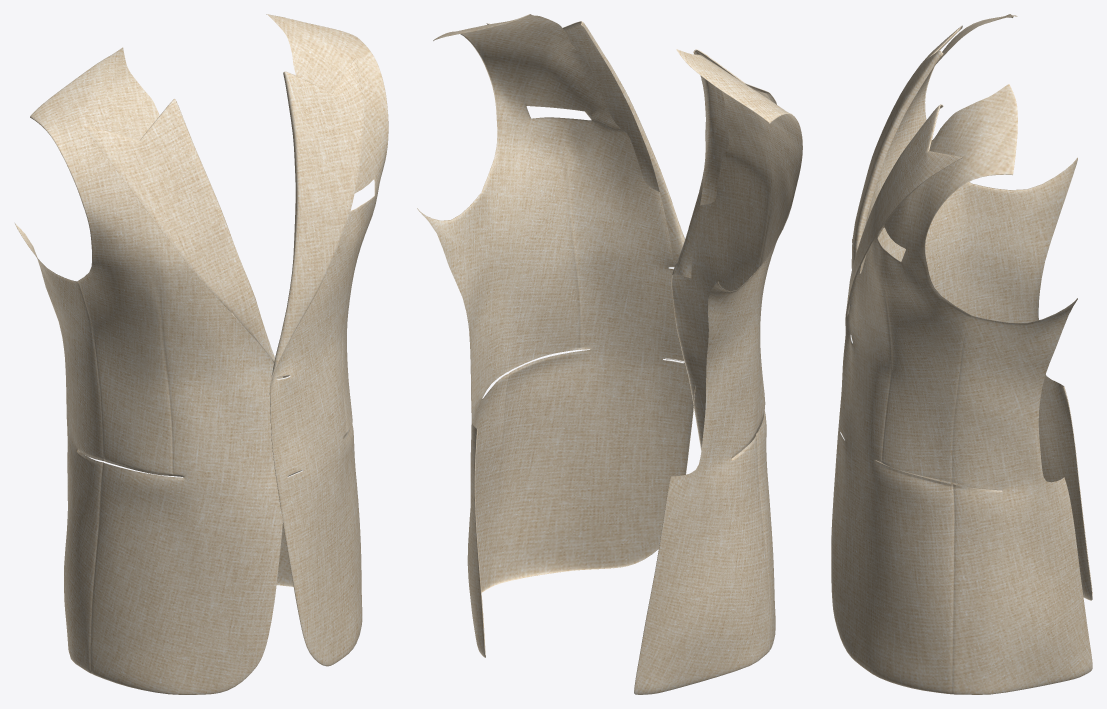
The model's file is peak_double_button_wide.glb.
3 views of the same model, side by side, from view 1: azimuth 30°, elevation 25°; view 2: azimuth 150°, elevation 25°; view 3: azimuth 270°, elevation 25° (orthographic). The views are drawn at different scales.
Parts seen in each view (by area): view 1: peak_double_button_wide1; view 2: peak_double_button_wide1; view 3: peak_double_button_wide1.
Boxes of the visible parts, box(x1,y1,x2,y2) form: peak_double_button_wide1: box(15, 14, 388, 694); peak_double_button_wide1: box(417, 14, 802, 694); peak_double_button_wide1: box(831, 14, 1092, 694).
Bounding box in the file's own units: 0.0585 × 0.102 × 0.0411.
2 materials, 1 textured.
